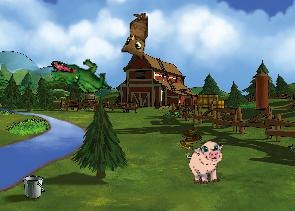crocodile: (49, 56, 111, 96)
owl: (120, 12, 148, 59)
pig: (185, 140, 227, 186)
